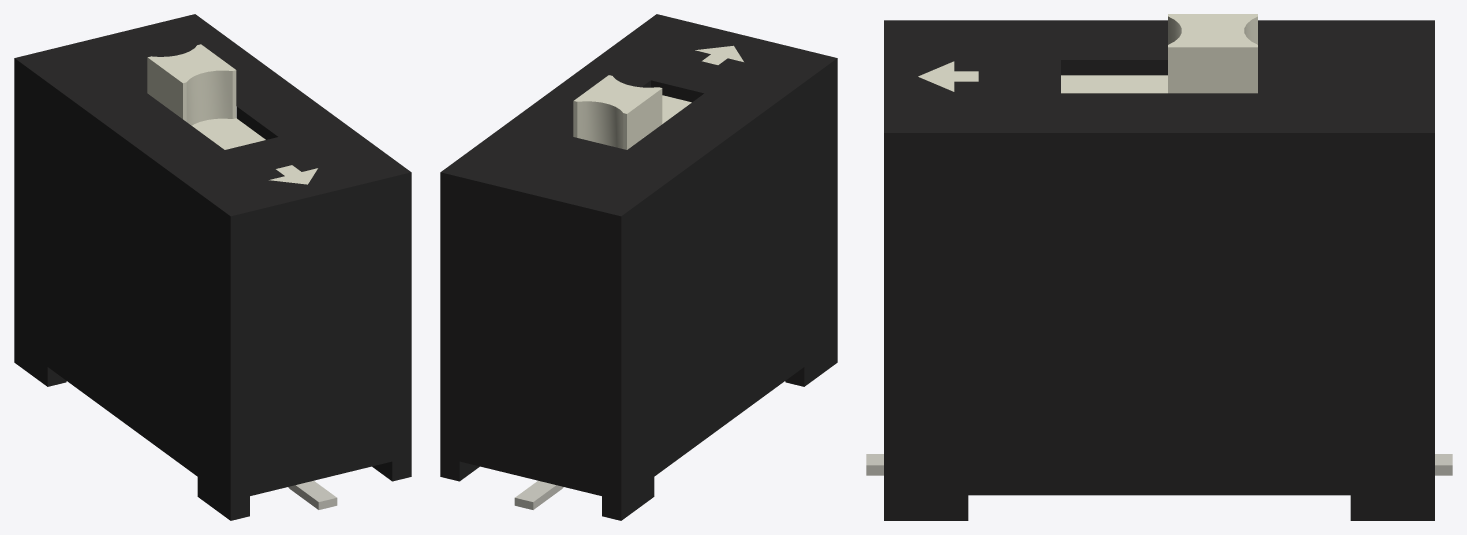
The model's file is kc-sw_dip_spstx01_slide_9.78x4.72mm_w8.61mm_p2.54mm.glb.
3 renders of one model, left to right at view 1: azimuth 30°, elevation 25°; view 2: azimuth 150°, elevation 25°; view 3: azimuth 270°, elevation 25°, orthographic. The views are drawn at different scales.
Visible parts, largest first — view 1: 0_0_0_0, 0.75_0.75_0.6666666666666666_0, 0.6666666666666666_0.6666666666666666_0.5833333333333334_0.8; view 2: 0_0_0_0, 0.75_0.75_0.6666666666666666_0, 0.6666666666666666_0.6666666666666666_0.5833333333333334_0.8; view 3: 0_0_0_0, 0.75_0.75_0.6666666666666666_0, 0.6666666666666666_0.6666666666666666_0.5833333333333334_0.8.
Part boxes in pixels (box(x1,y1,x2,y2)): 0_0_0_0: box(14, 14, 411, 520); 0.75_0.75_0.6666666666666666_0: box(147, 44, 317, 184); 0.6666666666666666_0.6666666666666666_0.5833333333333334_0.8: box(288, 480, 337, 509); 0_0_0_0: box(440, 14, 837, 520); 0.75_0.75_0.6666666666666666_0: box(573, 45, 743, 149); 0.6666666666666666_0.6666666666666666_0.5833333333333334_0.8: box(514, 480, 563, 509); 0_0_0_0: box(884, 20, 1434, 520); 0.75_0.75_0.6666666666666666_0: box(918, 14, 1257, 93); 0.6666666666666666_0.6666666666666666_0.5833333333333334_0.8: box(866, 454, 1452, 475).
Size of the model in its own units: 0.472 by 0.86 by 1.04.
